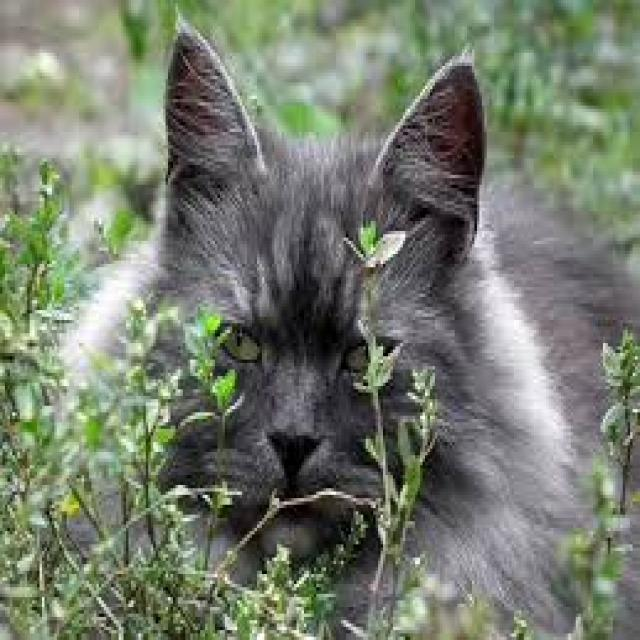Cat: (152, 13, 492, 609)
